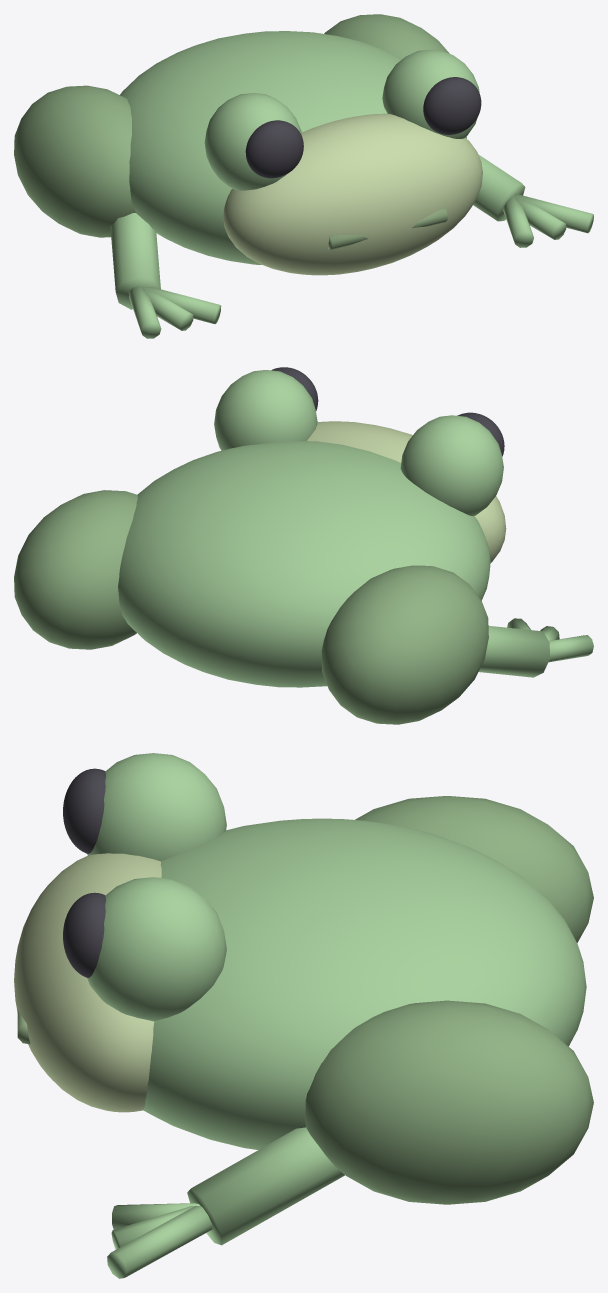
File: frog-common-frog.glb
3 renders of one model, top to bottom at view 1: azimuth 30°, elevation 25°; view 2: azimuth 150°, elevation 25°; view 3: azimuth 270°, elevation 25°, orthographic. The views are drawn at different scales.
Visible parts, largest first — view 1: material_5d9951, material_8baa61, material_436b38, material_100f13, material_4c713d; view 2: material_5d9951, material_436b38, material_8baa61, material_100f13; view 3: material_5d9951, material_436b38, material_8baa61, material_100f13.
Boxes of the visible parts, bbox=[...] form: material_5d9951: bbox=[110, 31, 593, 338]; material_8baa61: bbox=[223, 113, 482, 275]; material_436b38: bbox=[14, 14, 449, 237]; material_100f13: bbox=[245, 77, 481, 178]; material_4c713d: bbox=[328, 207, 447, 249]; material_5d9951: bbox=[118, 370, 593, 687]; material_436b38: bbox=[14, 490, 488, 724]; material_8baa61: bbox=[307, 421, 506, 562]; material_100f13: bbox=[271, 367, 504, 456]; material_5d9951: bbox=[87, 753, 586, 1278]; material_436b38: bbox=[304, 796, 593, 1204]; material_8baa61: bbox=[14, 853, 161, 1112]; material_100f13: bbox=[63, 768, 105, 977].
Size of the model in its own units: 1.02 by 0.4424 by 0.79.
